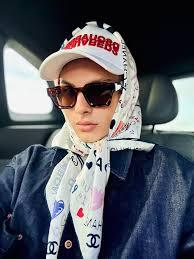cap: (36, 16, 143, 81)
sunglasses: (43, 79, 121, 112)
